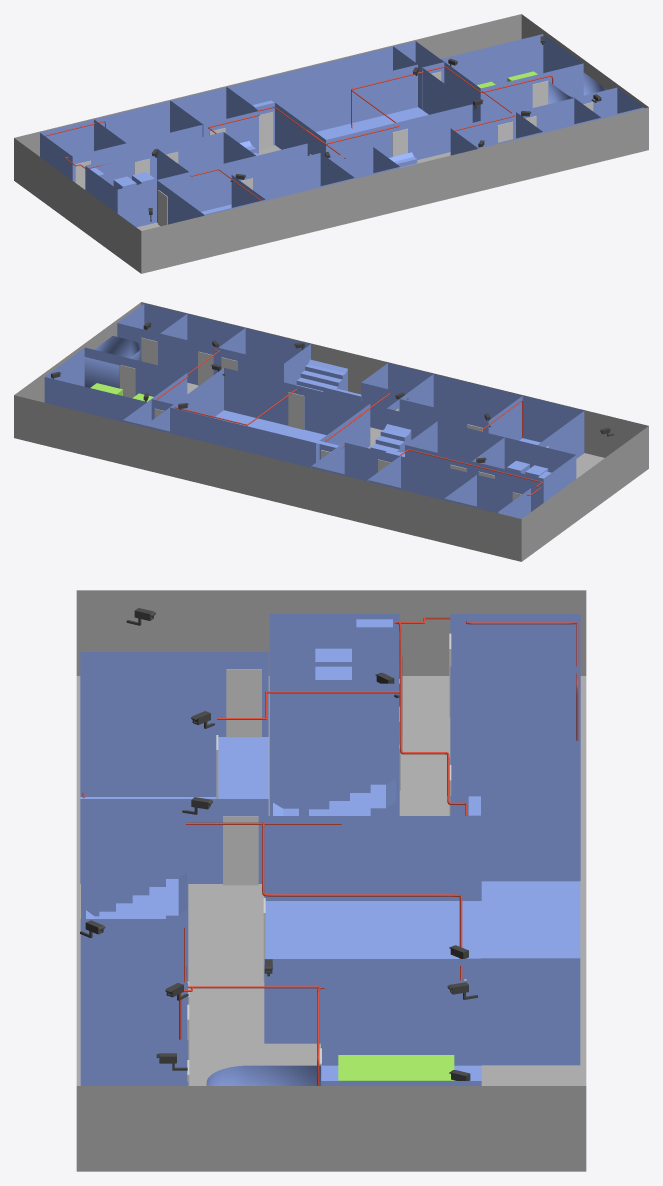
Rendered from Bekami_l2.glb.
The picture shows the model from 3 angles, top to bottom: view 1: azimuth 30°, elevation 25°; view 2: azimuth 150°, elevation 25°; view 3: azimuth 270°, elevation 25°; orthographic projection. The views are drawn at different scales.
Visible parts, largest first — view 1: LANTAI_2, JEMURAN, R14, R18, R10, R12, R19, TOILET, R13, R11, R15, R16 (+9 smaller); view 2: LANTAI_2, R14, R12, R18, R10, R19, R11, R16, R15, TANGGA_L1, R5, R17 (+10 smaller); view 3: LANTAI_2, R14, R12, JEMURAN, R10, R11, R18, R15, R13, TOILET_2, R5, R19 (+8 smaller).
Boxes of the visible parts, box(x1,y1,x2,y2) form: LANTAI_2: box(14, 14, 648, 273); JEMURAN: box(227, 46, 417, 145); R14: box(272, 65, 472, 159); R18: box(441, 34, 583, 122); R10: box(40, 101, 202, 181); R12: box(157, 143, 354, 224); R19: box(85, 148, 188, 227); TOILET: box(170, 87, 258, 153); R13: box(231, 153, 320, 207); R11: box(157, 132, 255, 179); R15: box(450, 112, 542, 155); R16: box(516, 98, 600, 138); LANTAI_2: box(14, 302, 648, 561); R14: box(170, 368, 370, 465); R12: box(386, 374, 584, 458); R18: box(44, 347, 187, 421); R10: box(368, 456, 530, 518); R19: box(472, 437, 576, 511); R11: box(405, 421, 504, 473); R16: box(160, 314, 245, 384); R15: box(218, 328, 310, 385); TANGGA_L1: box(296, 359, 411, 456); R5: box(361, 363, 433, 430); R17: box(117, 303, 187, 365); LANTAI_2: box(76, 590, 586, 1171); R14: box(264, 816, 481, 1043); R12: box(80, 652, 268, 883); JEMURAN: box(468, 796, 580, 958); R10: box(450, 614, 580, 741); R11: box(269, 683, 399, 815); R18: box(321, 980, 481, 1085); R15: box(80, 919, 188, 1039); R13: box(80, 712, 216, 798); TOILET_2: box(466, 958, 580, 1065); R5: box(81, 799, 188, 918); R19: box(269, 614, 399, 683).
Bounding box in the file's own units: 8.95 × 0.7651 × 3.89.
